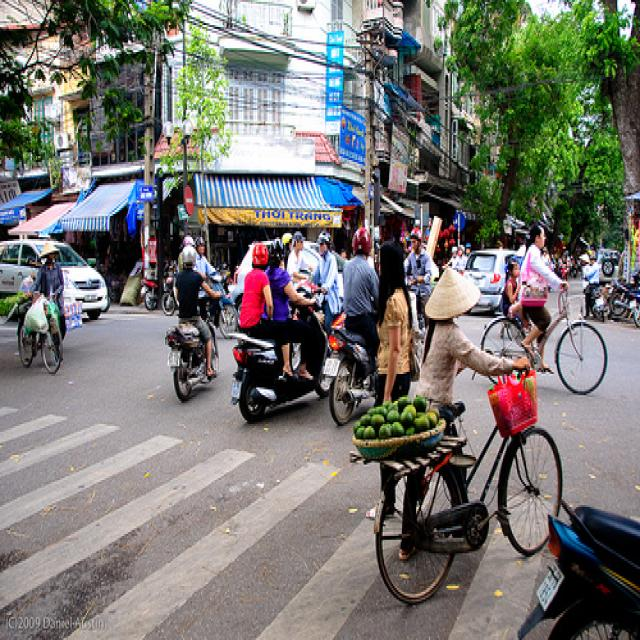motor: (515, 495, 640, 631), (229, 310, 331, 426), (324, 326, 377, 426), (167, 319, 221, 387), (589, 281, 608, 322)
